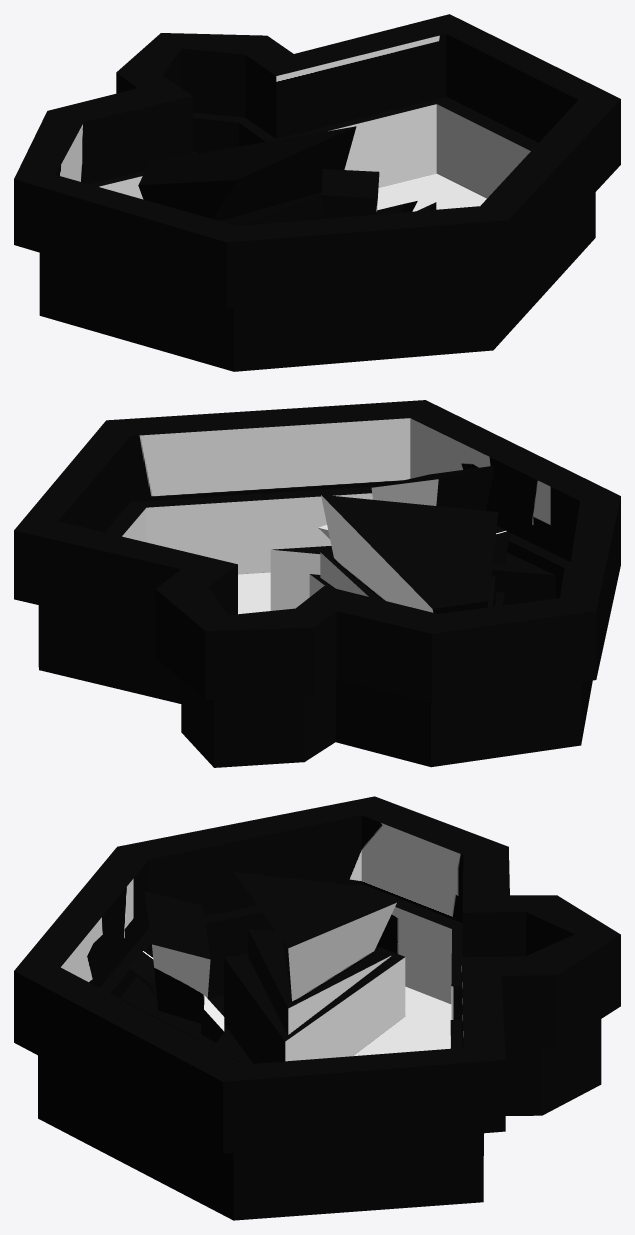
The model's file is level1_1.fbx.
The picture shows the model from 3 angles, top to bottom: view 1: azimuth 30°, elevation 25°; view 2: azimuth 150°, elevation 25°; view 3: azimuth 270°, elevation 25°; orthographic projection. The views are drawn at different scales.
Visible parts, largest first — view 1: 1-1_upper_wall, 1-1_lower_wall, 1-1_pillar_aqua_top, 1-1_pillar_purple_top, 1-1_floor; view 2: 1-1_upper_wall, 1-1_lower_wall, 1-1_pillar_aqua_top, 1-1_pillar_purple, 1-1_pillar_purple_top, 1-1_floor; view 3: 1-1_upper_wall, 1-1_lower_wall, 1-1_pillar_aqua_top, 1-1_pillar_aqua, 1-1_pillar_purple_top, 1-1_floor, 1-1_pillar_purple.
Boxes of the visible parts, x1,y1,x2,y2 form: 1-1_upper_wall: (14,14,620,308); 1-1_lower_wall: (39,96,595,371); 1-1_pillar_aqua_top: (138,126,356,225); 1-1_pillar_purple_top: (322,169,417,218); 1-1_floor: (377,173,486,211); 1-1_upper_wall: (14,400,620,702); 1-1_lower_wall: (38,486,592,767); 1-1_pillar_aqua_top: (320,494,498,613); 1-1_pillar_purple: (270,546,555,610); 1-1_pillar_purple_top: (318,465,509,563); 1-1_floor: (238,572,270,614); 1-1_upper_wall: (14,796,620,1153); 1-1_lower_wall: (38,883,601,1220); 1-1_pillar_aqua_top: (233,871,396,1035); 1-1_pillar_aqua: (224,946,405,1063); 1-1_pillar_purple_top: (127,891,224,1042); 1-1_floor: (208,986,451,1063); 1-1_pillar_purple: (120,976,249,1064).
Bounding box in the file's own units: 9.84 × 2.67 × 8.84.
Materials: 7 (7 with a texture image).
